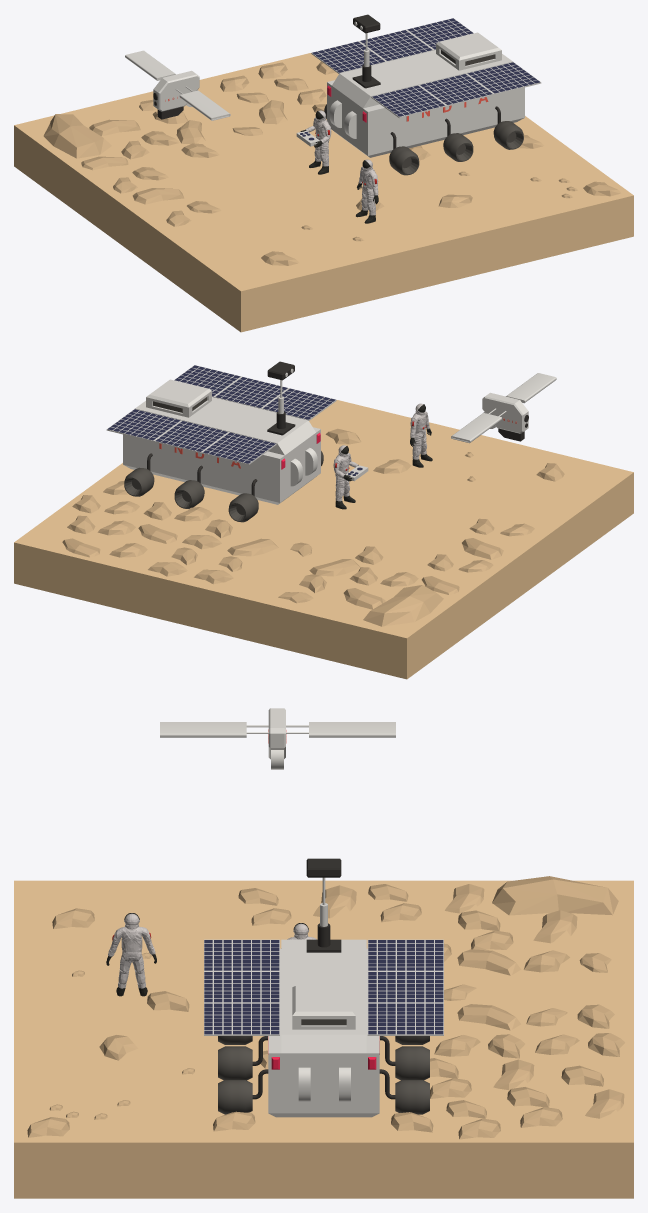
Rendered from 01 Space_5.FBX.
3 renders of one model, top to bottom at view 1: azimuth 30°, elevation 25°; view 2: azimuth 150°, elevation 25°; view 3: azimuth 270°, elevation 25°, orthographic. The views are drawn at different scales.
Visible parts, largest first — view 1: Base, Space_robot_1, Stone, Space_robot_2, astronaut_2, astronaut_1; view 2: Base, Space_robot_1, Stone, Space_robot_2, astronaut_2, astronaut_1; view 3: Base, Space_robot_1, Stone, Space_robot_2, astronaut_2.
Part boxes in pixels (<box>): Base: <box>14,53,633,332</box>; Space_robot_1: <box>311,14,541,175</box>; Stone: <box>43,61,621,265</box>; Space_robot_2: <box>125,50,230,120</box>; astronaut_2: <box>356,159,378,223</box>; astronaut_1: <box>300,110,331,174</box>; Base: <box>14,400,633,679</box>; Space_robot_1: <box>106,361,336,522</box>; Stone: <box>62,428,564,626</box>; Space_robot_2: <box>451,373,556,443</box>; astronaut_2: <box>410,403,432,467</box>; astronaut_1: <box>333,445,358,509</box>; Base: <box>14,880,633,1198</box>; Space_robot_1: <box>204,858,443,1117</box>; Stone: <box>27,876,624,1139</box>; Space_robot_2: <box>160,708,395,769</box>; astronaut_2: <box>106,913,156,996</box>.
Size of the model in its own units: 10000 by 4308 by 10000.
